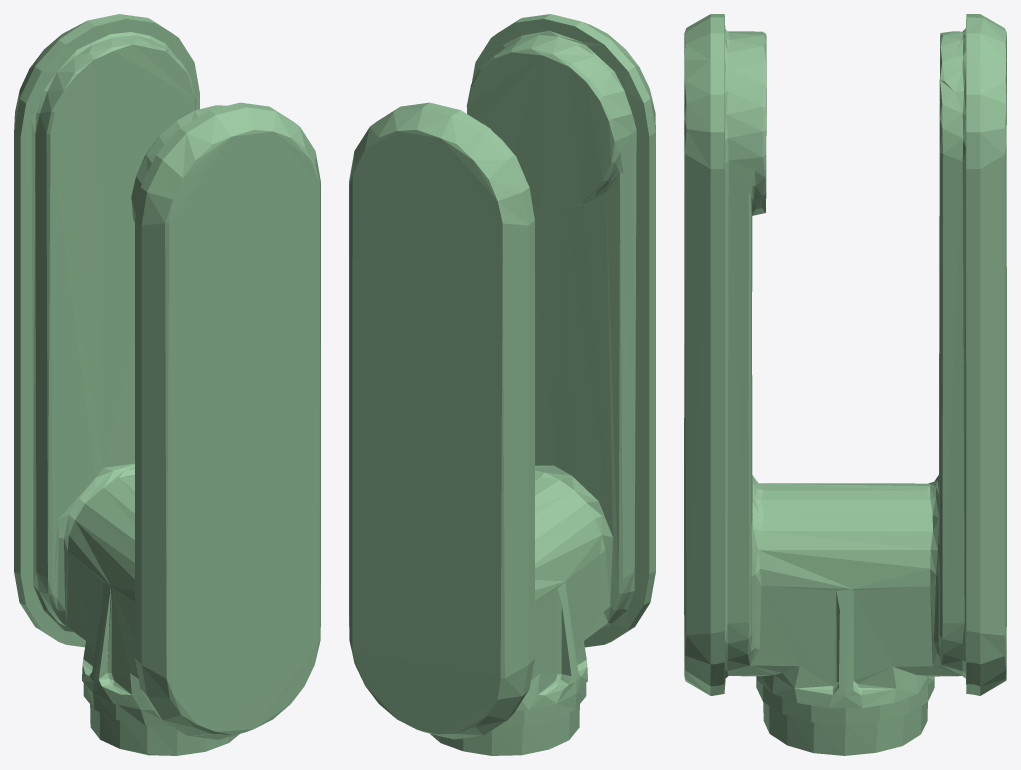
The picture shows the model from 3 angles, left to right: view 1: azimuth 30°, elevation 25°; view 2: azimuth 150°, elevation 25°; view 3: azimuth 270°, elevation 25°; orthographic projection. The views are drawn at different scales.
Parts seen in each view (by area): view 1: link5; view 2: link5; view 3: link5.
Part boxes in pixels (box(x1,y1,x2,y2)): link5: box(14, 14, 320, 755); link5: box(349, 14, 655, 755); link5: box(684, 14, 1006, 755).
Size of the model in its own units: 0.086 by 0.1269 by 0.3024.
